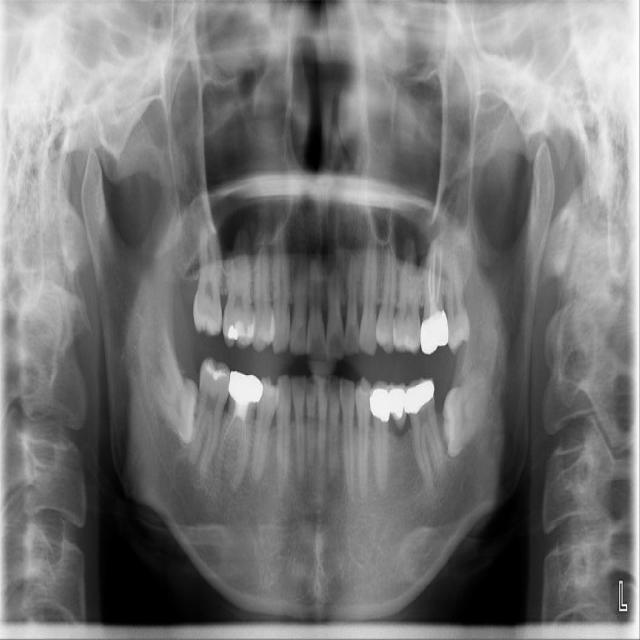52: (368, 376, 438, 432), (220, 368, 268, 418), (191, 355, 240, 403), (222, 302, 256, 351), (421, 306, 448, 355)
73: (209, 407, 258, 491), (424, 233, 445, 314), (598, 547, 604, 572)
BioHorizons Implant: (420, 233, 448, 354)
BioLife Implant: (440, 248, 472, 354)
Biomet 3i Implant: (443, 373, 490, 458)
Blue Sky Bio Implant: (400, 375, 450, 496)
Caries: (193, 225, 224, 337)
Implant: (186, 355, 235, 476)
Keystone Dental Implant: (139, 340, 214, 449)
